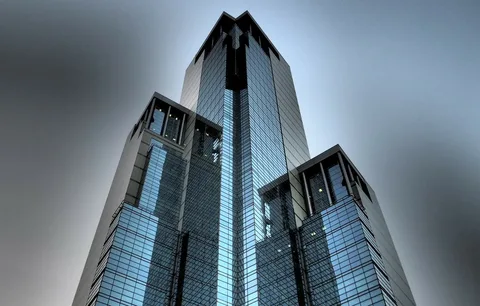high_rise_building: (174, 8, 313, 293)
